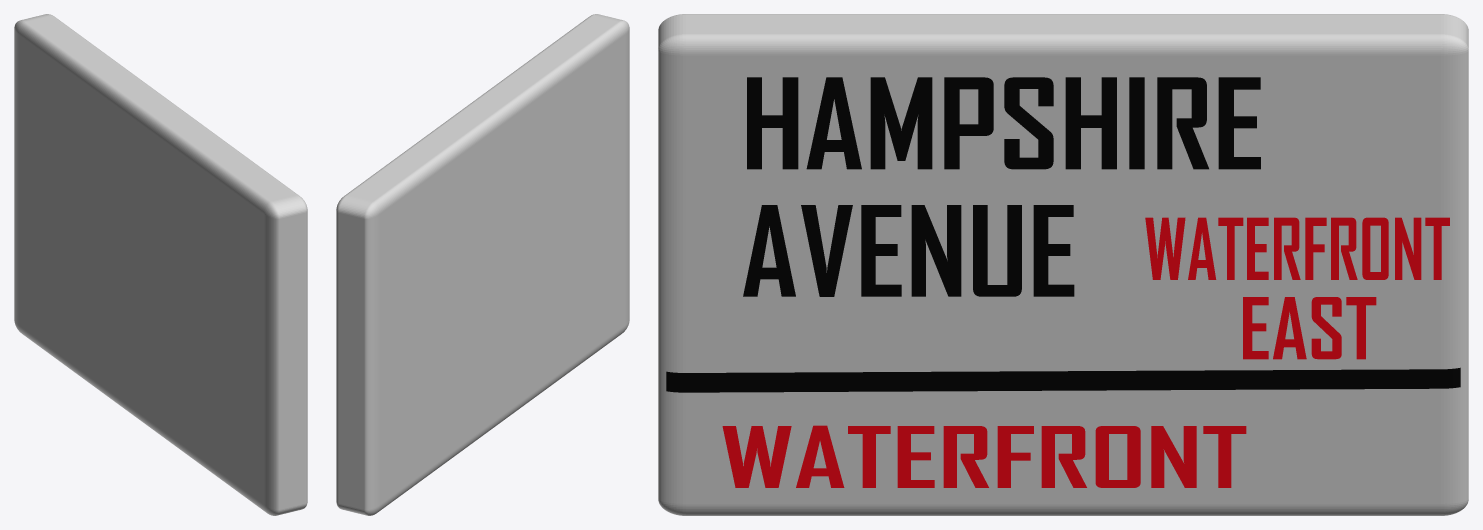
File: uk_styled_street_sign_58.fbx
The picture shows the model from 3 angles, left to right: view 1: azimuth 30°, elevation 25°; view 2: azimuth 150°, elevation 25°; view 3: azimuth 270°, elevation 25°; orthographic projection. The views are drawn at different scales.
Parts seen in each view (by area): view 1: Cube; view 2: Cube; view 3: Cube, Text, Text.002, Text.001, Text.003, Text.004.
Part boxes in pixels (x1,y1,x2,y2): Cube: (14, 14, 307, 515); Cube: (336, 14, 629, 515); Cube: (658, 14, 1468, 515); Text: (747, 77, 1260, 169); Text.002: (722, 425, 1246, 487); Text.001: (743, 205, 1074, 296); Text.003: (1145, 217, 1449, 279); Text.004: (1243, 297, 1376, 359).
Size of the model in its own units: 1.63 by 11.91 by 18.18.
